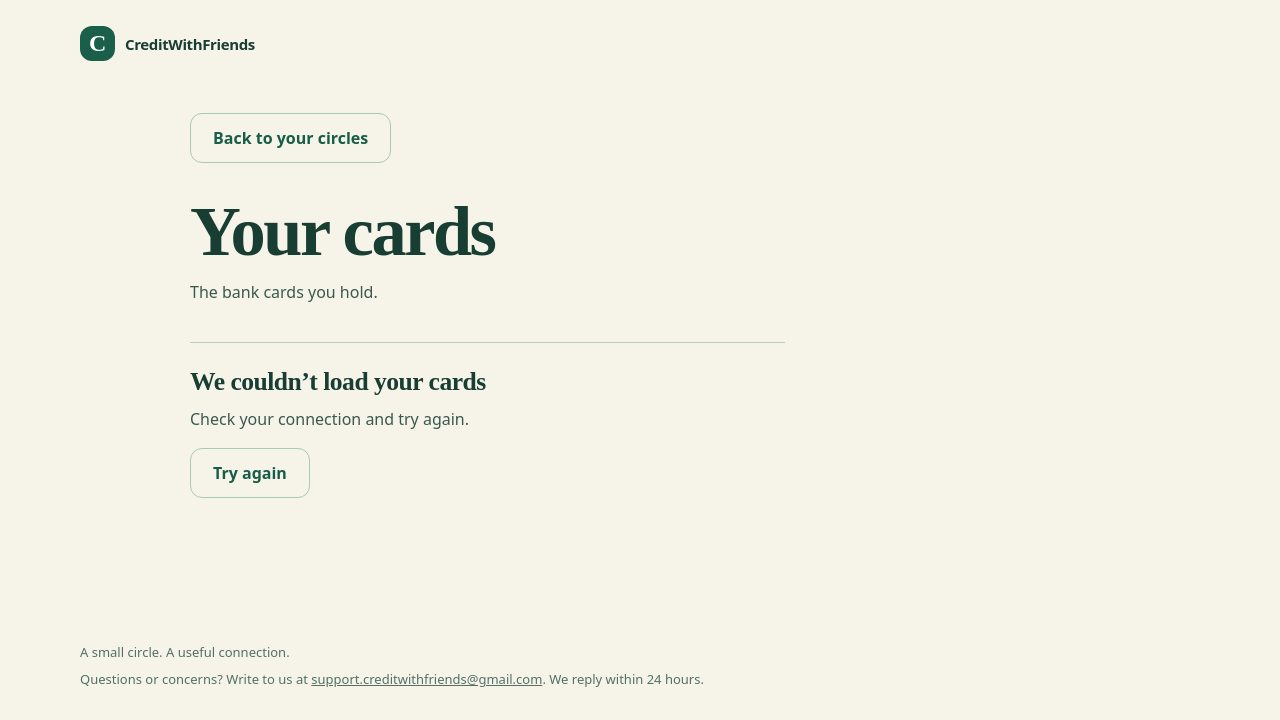
it: done-when-1: a failed cards load offers a retry that shows bank, type and optional variant
Expected: the message shows "We couldn’t load your cards", top-left (190, 367), bottom-right (486, 396)
Expected: the text "Check your connection and try again." is shown, top-left (190, 408), bottom-right (469, 430)
Click the button "Try again": point(250, 473) top-left (190, 448), bottom-right (310, 498)
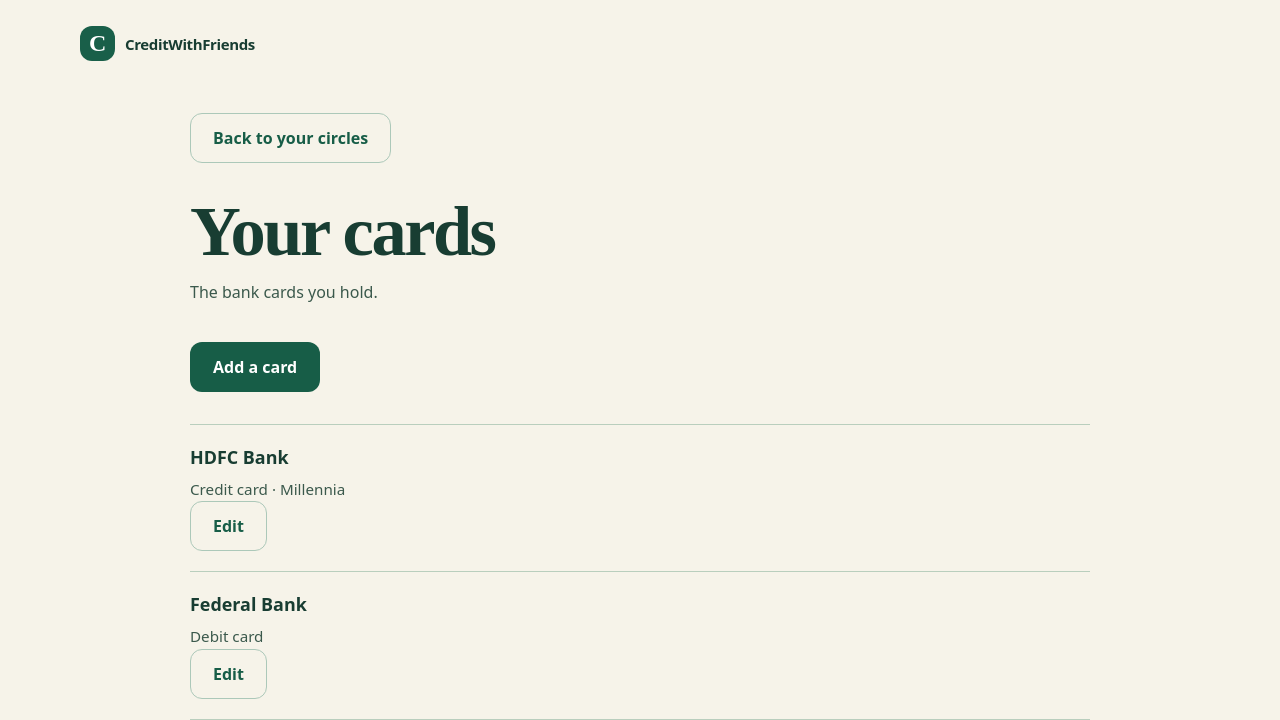
Now the number of list items is 2, box top-left (190, 425), bottom-right (1090, 572); top-left (190, 572), bottom-right (1090, 719)
Now the list item "HDFC Bank Credit card · Millennia Edit" is shown, box top-left (190, 425), bottom-right (1090, 572)
Now the list item "Federal Bank Debit card Edit" is shown, box top-left (190, 572), bottom-right (1090, 719)
